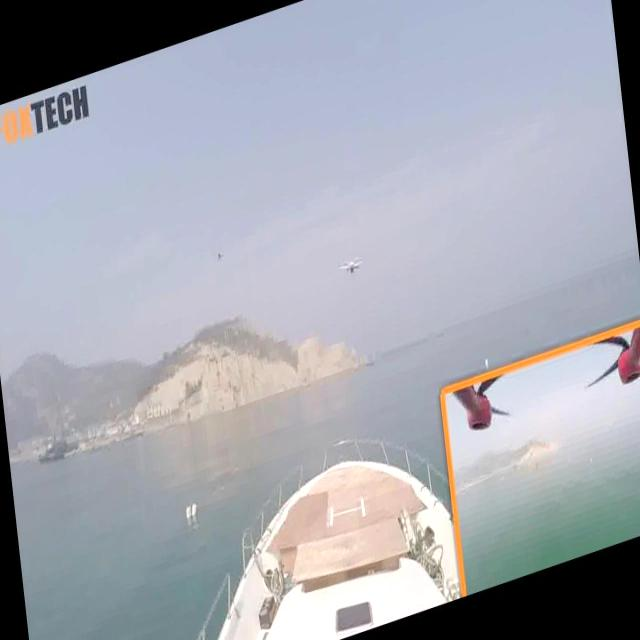drone: (338, 253, 364, 282)
